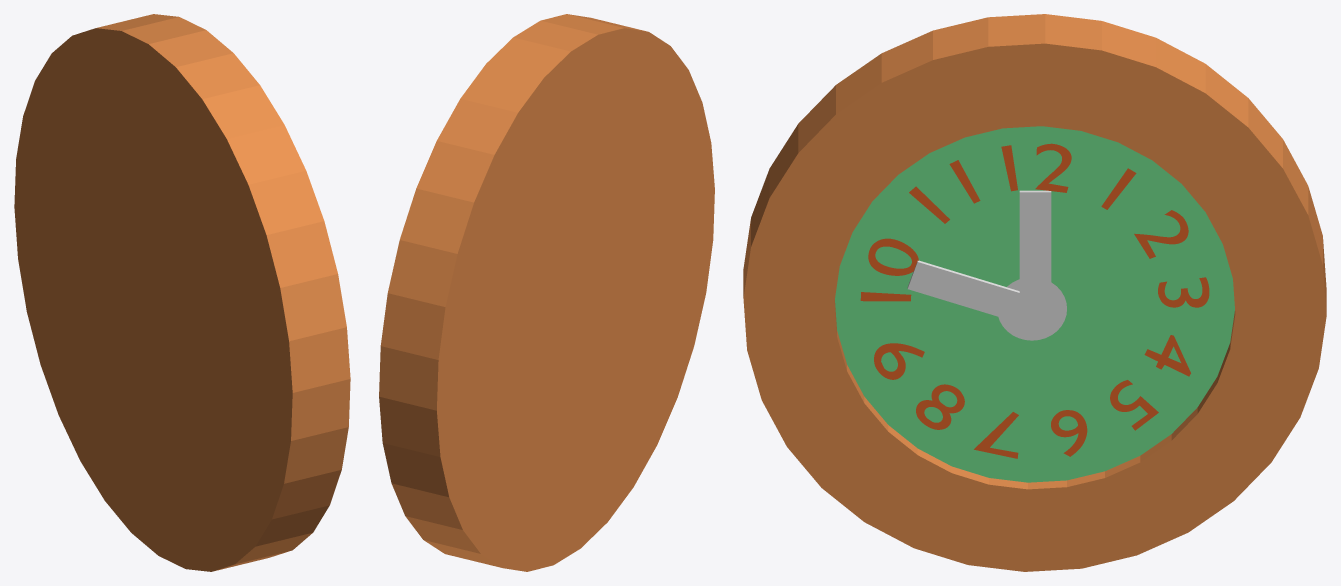
Rendered from jam.fbx.
The picture shows the model from 3 angles, left to right: view 1: azimuth 30°, elevation 25°; view 2: azimuth 150°, elevation 25°; view 3: azimuth 270°, elevation 25°; orthographic projection. The views are drawn at different scales.
Parts seen in each view (by area): view 1: Circle.001; view 2: Circle.001; view 3: Circle.001, Circle, Text, Cube.001, Cube, Circle.002.
Boxes of the visible parts, x1,y1,x2,y2 form: Circle.001: (14, 14, 350, 571); Circle.001: (379, 14, 714, 571); Circle.001: (743, 14, 1326, 571); Circle: (835, 126, 1234, 482); Text: (860, 143, 1209, 458); Cube.001: (907, 260, 1046, 328); Cube: (1019, 190, 1051, 316); Circle.002: (998, 279, 1066, 340).
Bounding box in the file's own units: 92.17 × 768 × 768.
